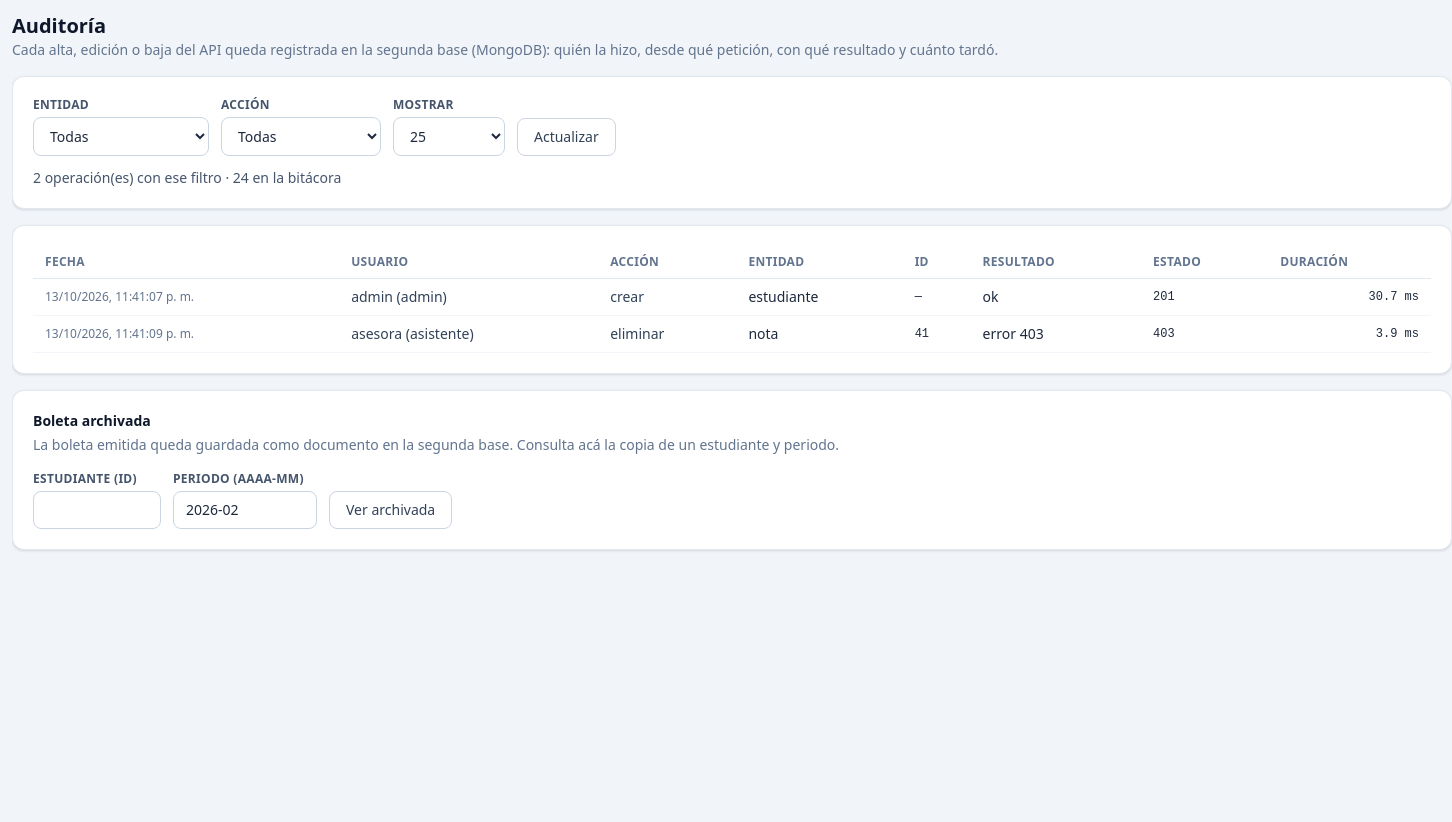
Test: pantalla de auditoría › avisa cuando no hay boleta archivada
Expected: the table is shown, [33, 246, 1431, 353]
Type "99" into the field labelled "Estudiante (id)" at [97, 510], box [33, 491, 161, 529]
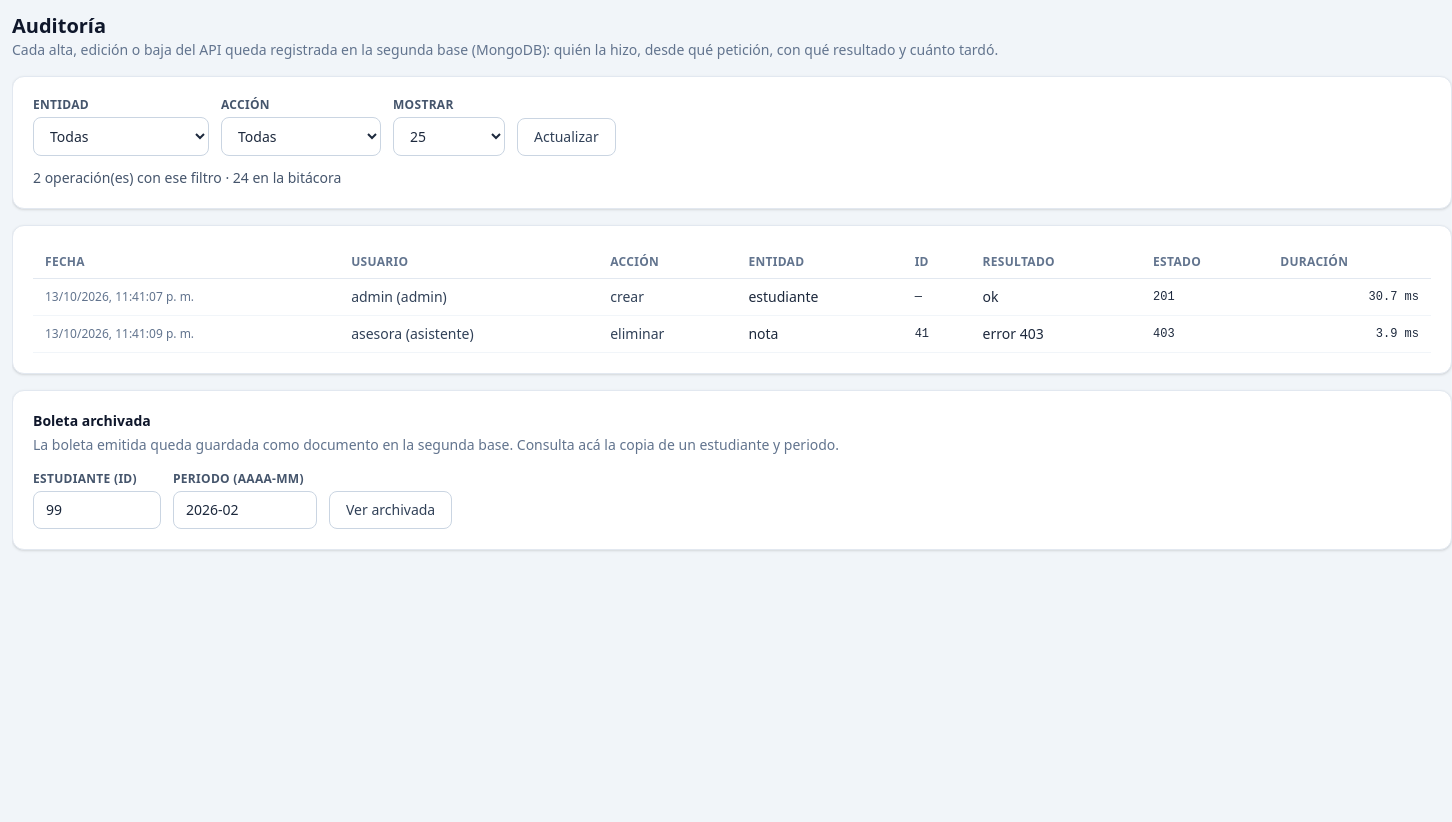
Submit the form "Ver archivada", box [33, 470, 452, 529]
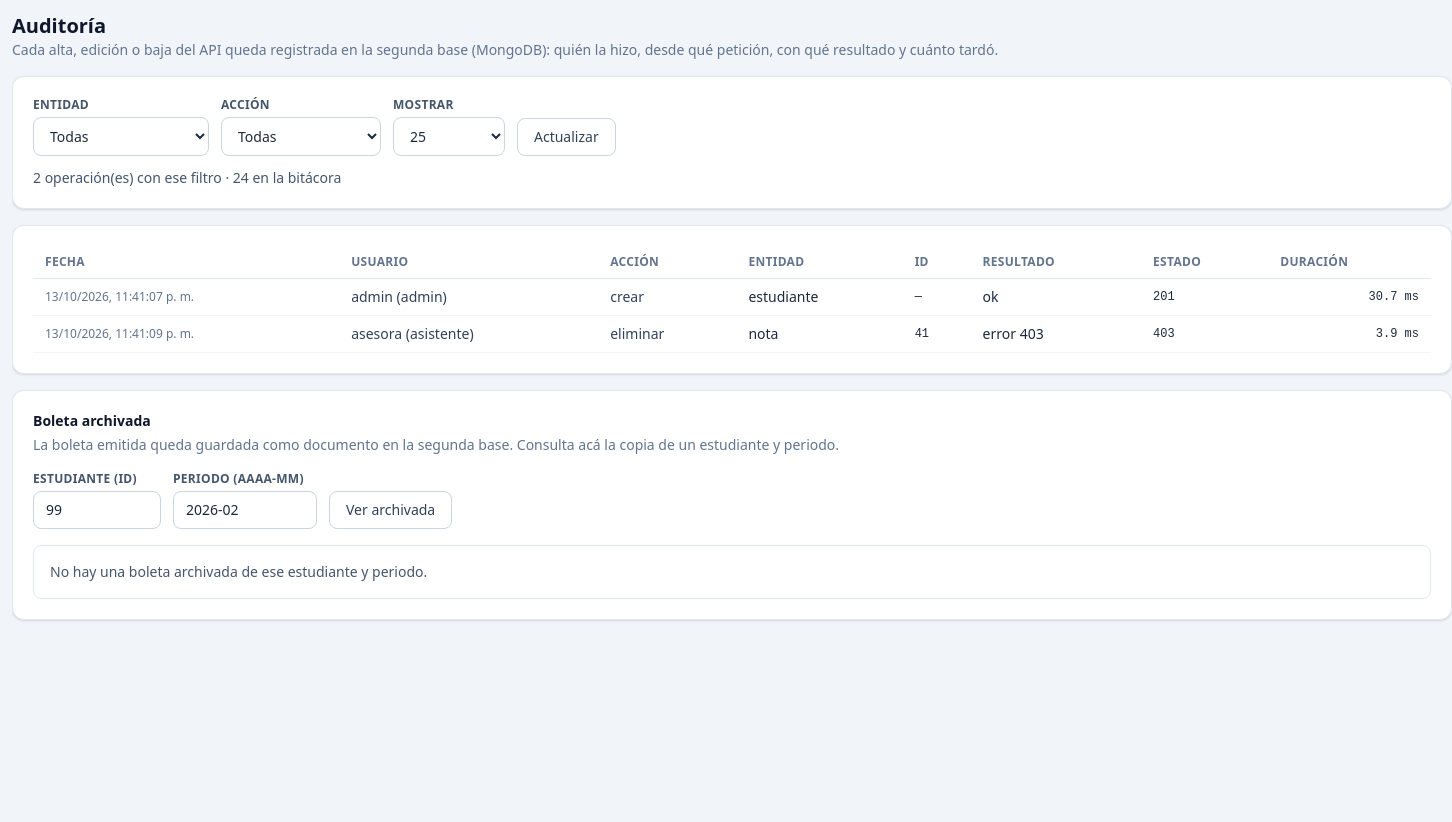
Now the text "No hay una boleta archivada de ese estudiante y periodo." is shown, box [50, 562, 427, 581]
